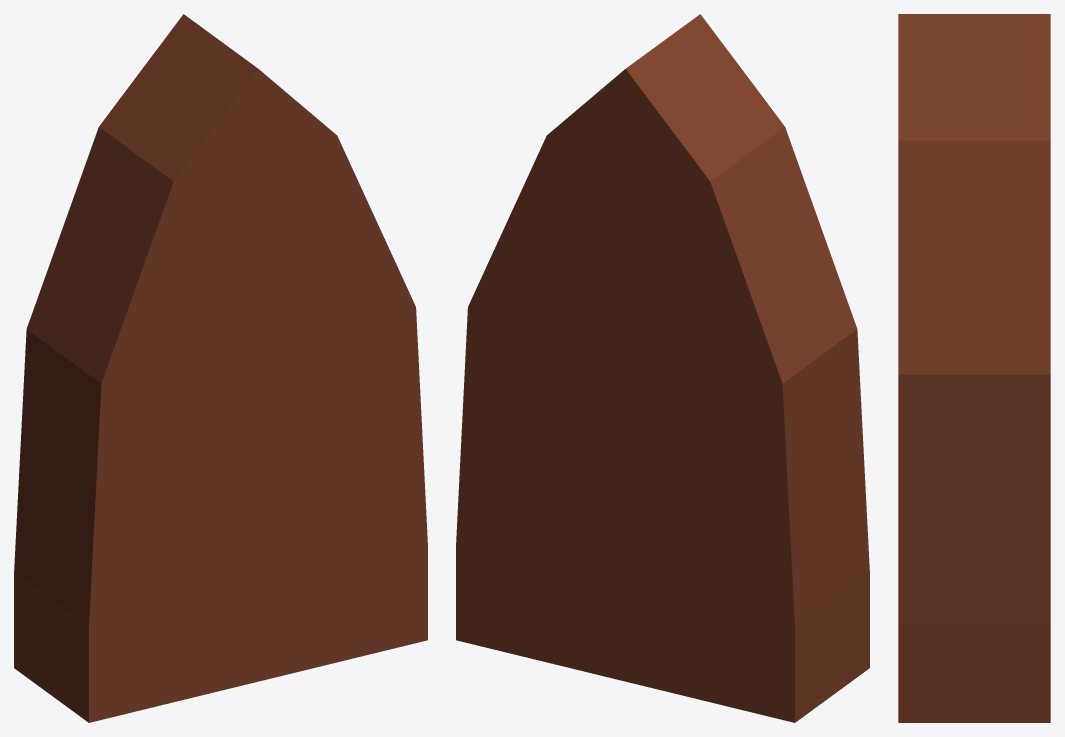
File: side wall 2 small window red.glb
The picture shows the model from 3 angles, left to right: view 1: azimuth 30°, elevation 25°; view 2: azimuth 150°, elevation 25°; view 3: azimuth 270°, elevation 25°; orthographic projection.
Parts seen in each view (by area): view 1: small window.003; view 2: small window.003; view 3: small window.003.
Boxes of the visible parts, x1,y1,x2,y2 form: small window.003: (14,14,427,722); small window.003: (456,14,869,722); small window.003: (898,14,1050,722).
Size of the model in its own units: 57.5 by 99.38 by 22.
Materials: 1 (1 with a texture image).
